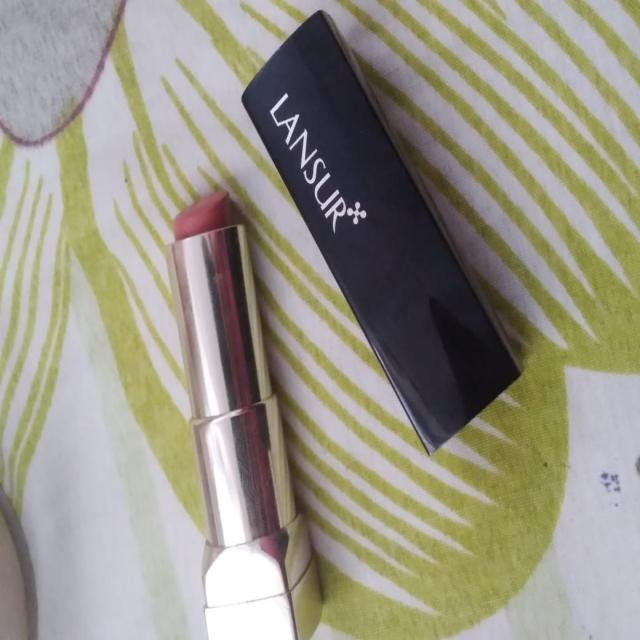lip stick: (231, 1, 537, 467), (154, 166, 325, 640)
